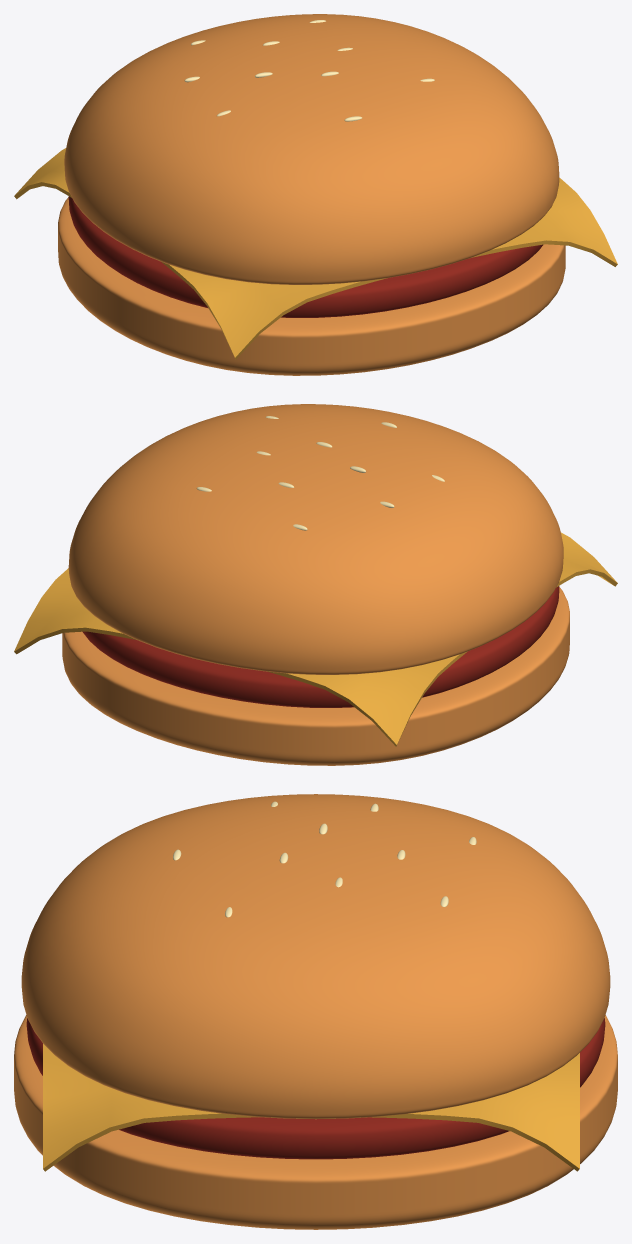
File: hamburger.glb
3 renders of one model, top to bottom at view 1: azimuth 30°, elevation 25°; view 2: azimuth 150°, elevation 25°; view 3: azimuth 270°, elevation 25°, orthographic. The views are drawn at different scales.
Visible parts, largest first — view 1: Cube.002, Cube, Plane, Cube.001; view 2: Cube.002, Cube, Cube.001, Plane; view 3: Cube.002, Cube, Plane, Cube.001.
Boxes of the visible parts, x1,y1,x2,y2 form: Cube.002: [64, 14, 559, 284]; Cube: [58, 197, 565, 375]; Plane: [14, 148, 617, 359]; Cube.001: [68, 196, 542, 317]; Cube.002: [68, 404, 563, 674]; Cube: [62, 587, 569, 765]; Cube.001: [82, 586, 559, 707]; Plane: [14, 532, 617, 746]; Cube.002: [21, 794, 610, 1119]; Cube: [14, 1015, 617, 1229]; Plane: [43, 1044, 579, 1171]; Cube.001: [26, 1018, 605, 1159].
Size of the model in its own units: 9.18 by 4.62 by 9.18.
